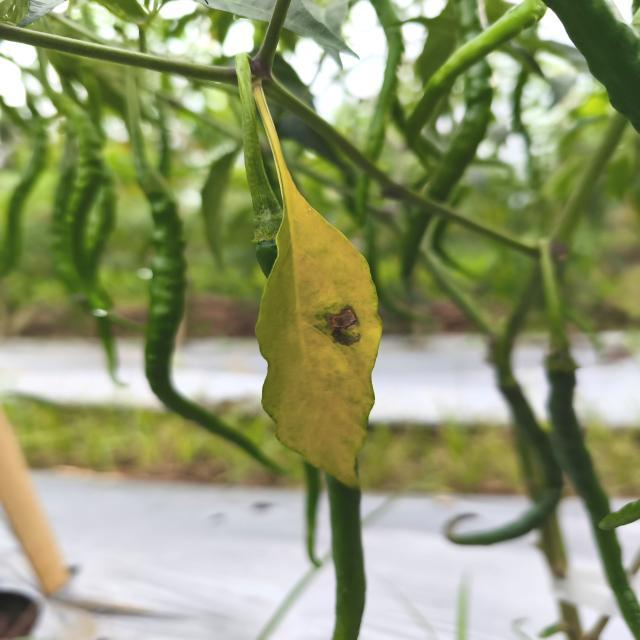Virus Kuning: (242, 181, 384, 490)
